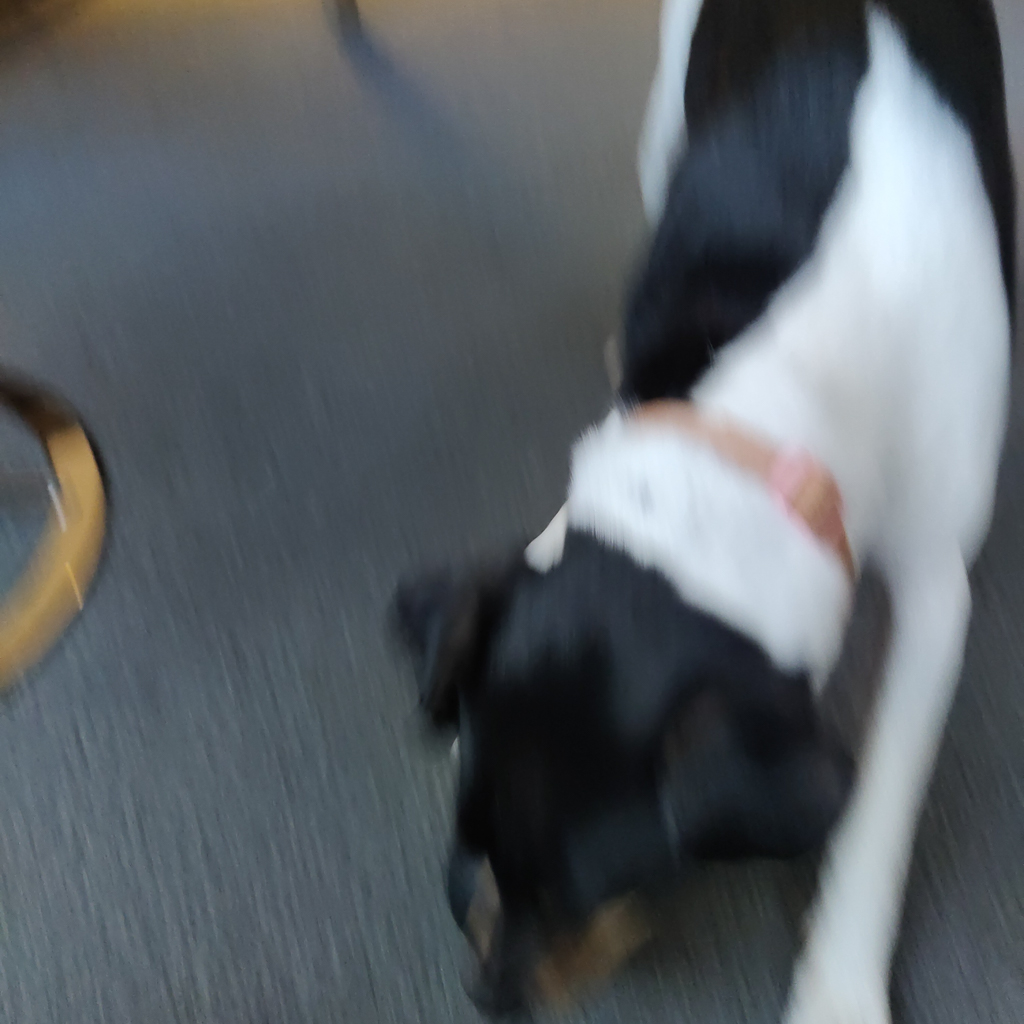Dog: (368, 0, 1024, 1024)
